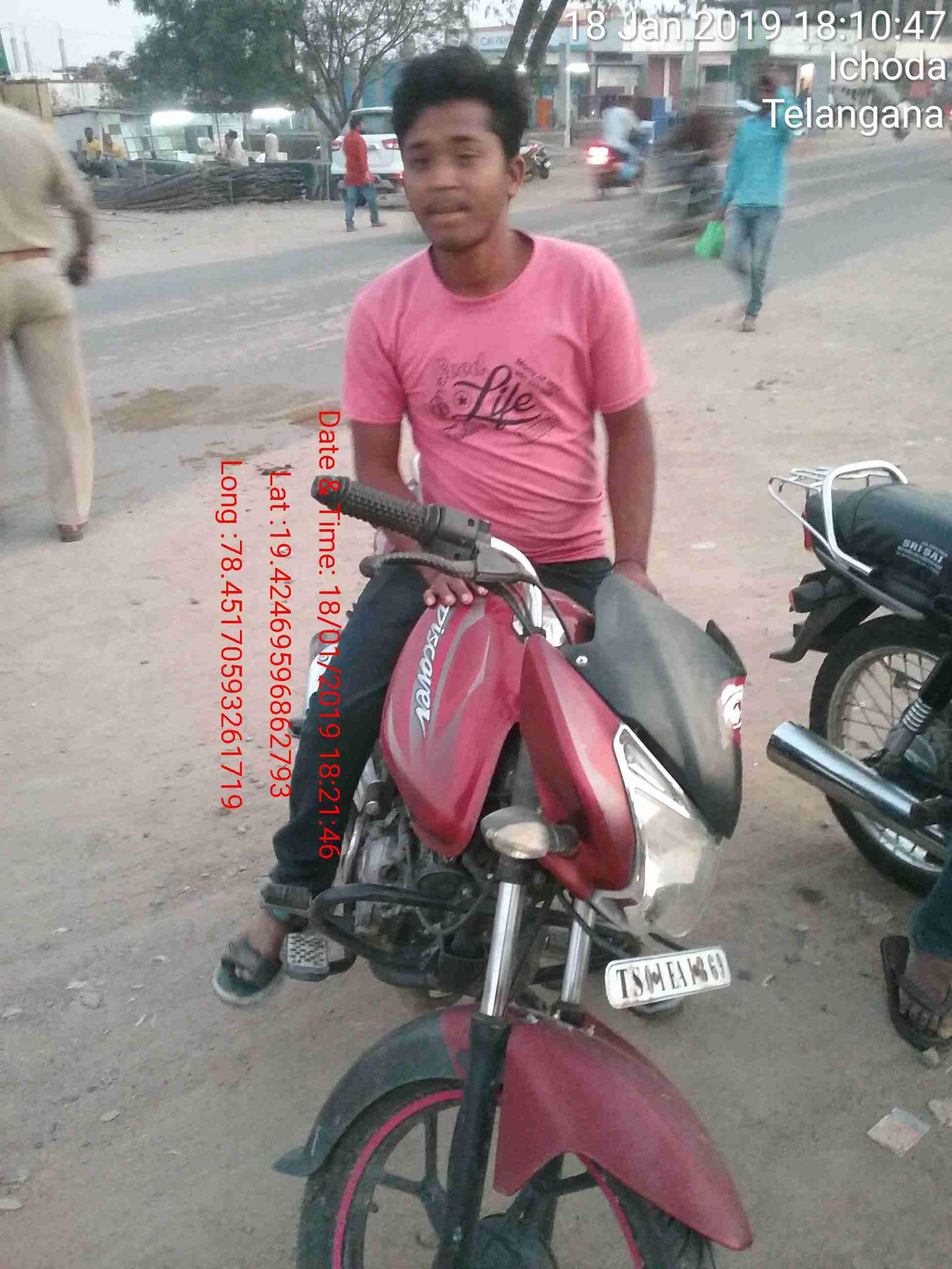plate: (601, 938, 742, 1016)
